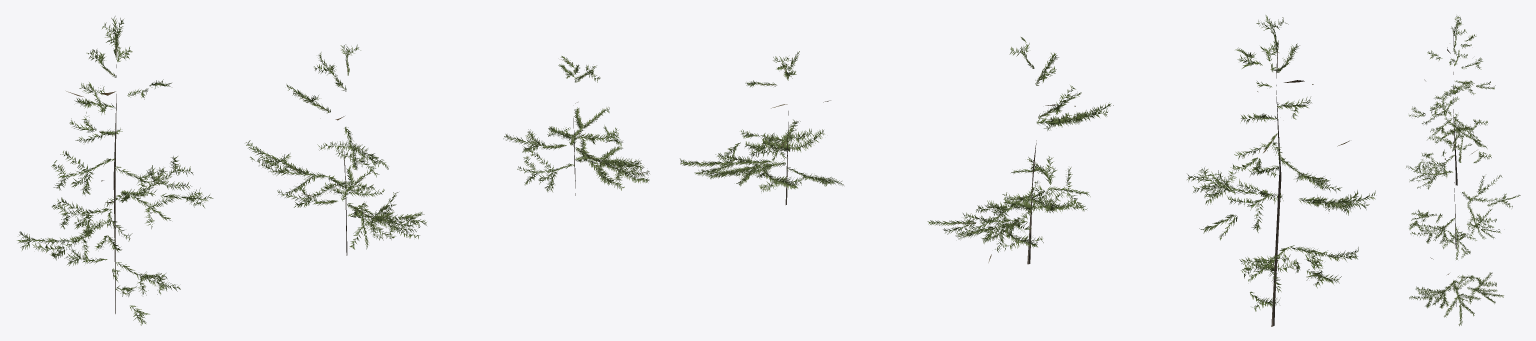
The model's file is fir_far_lod.glb.
The picture shows the model from 3 angles, left to right: view 1: azimuth 30°, elevation 25°; view 2: azimuth 150°, elevation 25°; view 3: azimuth 270°, elevation 25°; orthographic projection. The views are drawn at different scales.
Parts seen in each view (by area): view 1: fir_sapling_a, fir_sapling_b, fir_sapling_c; view 2: fir_sapling_a, fir_sapling_b, fir_sapling_c; view 3: fir_sapling_a, fir_sapling_b, fir_sapling_c.
Boxes of the visible parts, x1,y1,x2,y2 form: fir_sapling_a: [17, 16, 213, 325]; fir_sapling_b: [246, 44, 426, 255]; fir_sapling_c: [503, 56, 649, 195]; fir_sapling_a: [1187, 15, 1375, 326]; fir_sapling_b: [927, 37, 1113, 264]; fir_sapling_c: [680, 51, 843, 204]; fir_sapling_a: [1409, 16, 1495, 185]; fir_sapling_b: [1406, 124, 1520, 259]; fir_sapling_c: [1409, 229, 1503, 325].
Size of the model in its own units: 2.67 by 1.23 by 0.7677.
Materials: 2 (2 with a texture image).
